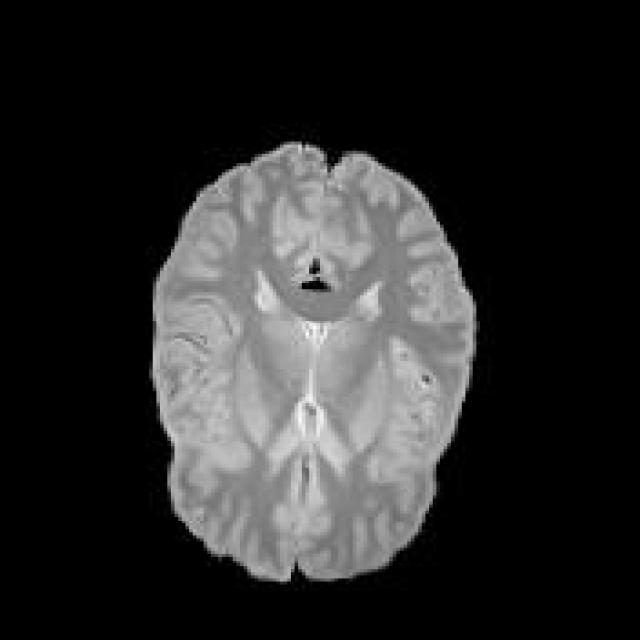CONTROL: (146, 138, 477, 582)
